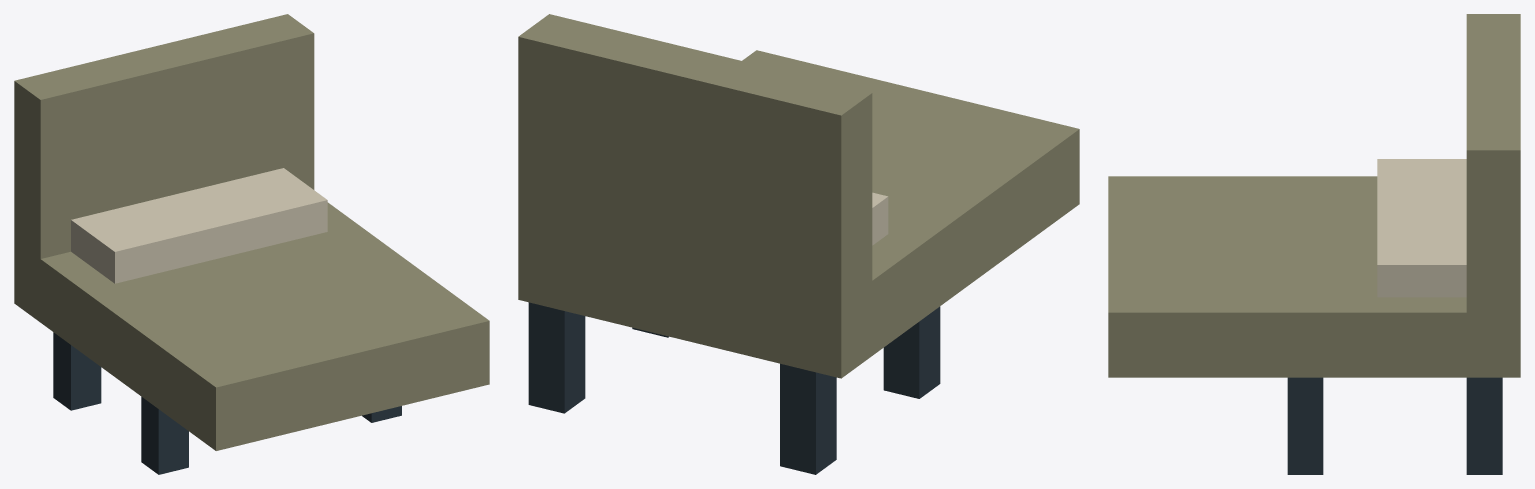
File: fitness-17.glb
3 views of the same model, side by side, from view 1: azimuth 30°, elevation 25°; view 2: azimuth 150°, elevation 25°; view 3: azimuth 270°, elevation 25° (orthographic). The views are drawn at different scales.
Visible parts, largest first — view 1: Recovery bed; view 2: Recovery bed; view 3: Recovery bed.
Part boxes in pixels (left/top/right/bottom): Recovery bed: left=14, top=14, right=489, bottom=474; Recovery bed: left=518, top=14, right=1079, bottom=474; Recovery bed: left=1108, top=14, right=1520, bottom=474.
Bounding box in the file's own units: 1.44 × 1.6 × 1.84.
